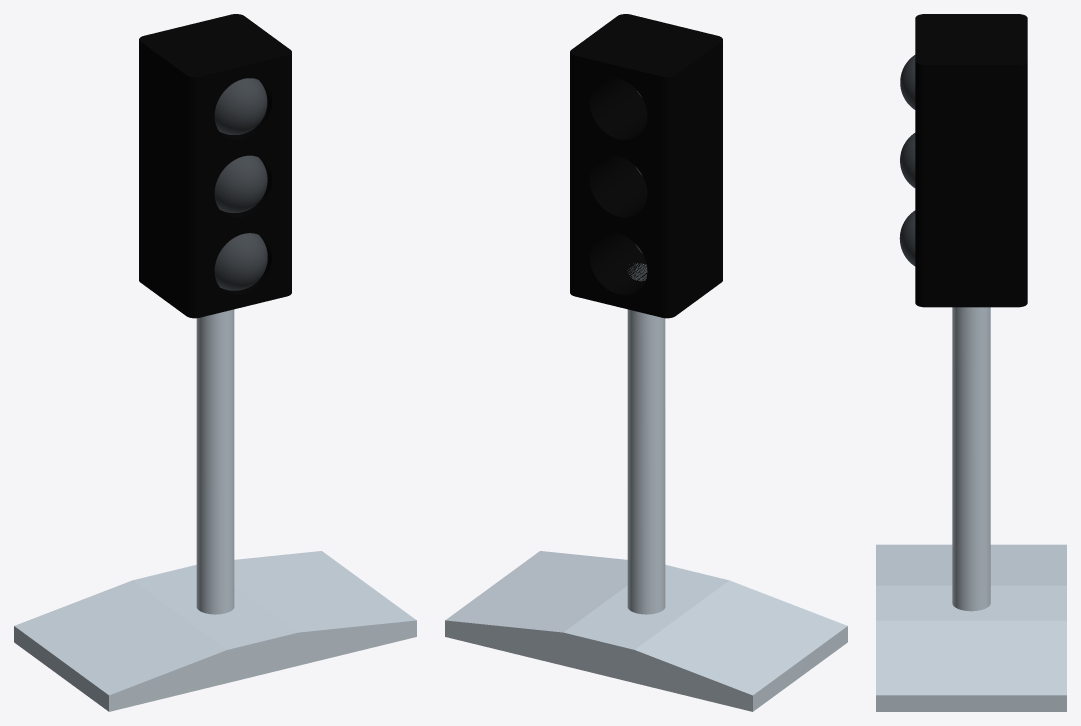
File: traffic_light.dae
3 renders of one model, left to right at view 1: azimuth 30°, elevation 25°; view 2: azimuth 150°, elevation 25°; view 3: azimuth 270°, elevation 25°, orthographic.
Visible parts, largest first — view 1: pole, case, green_light, yellow_light, red_light; view 2: pole, case; view 3: pole, case, green_light, yellow_light, red_light.
Boxes of the visible parts, <box> form: pole: <box>14,309,416,711</box>; case: <box>139,14,291,318</box>; green_light: <box>214,233,267,290</box>; yellow_light: <box>214,155,267,212</box>; red_light: <box>214,78,267,134</box>; pole: <box>445,263,847,711</box>; case: <box>570,14,722,318</box>; pole: <box>876,307,1066,711</box>; case: <box>915,14,1027,307</box>; green_light: <box>899,210,915,266</box>; yellow_light: <box>900,133,915,187</box>; red_light: <box>900,55,915,109</box>.
Size of the model in its own units: 0.374 by 0.2 by 0.69.
